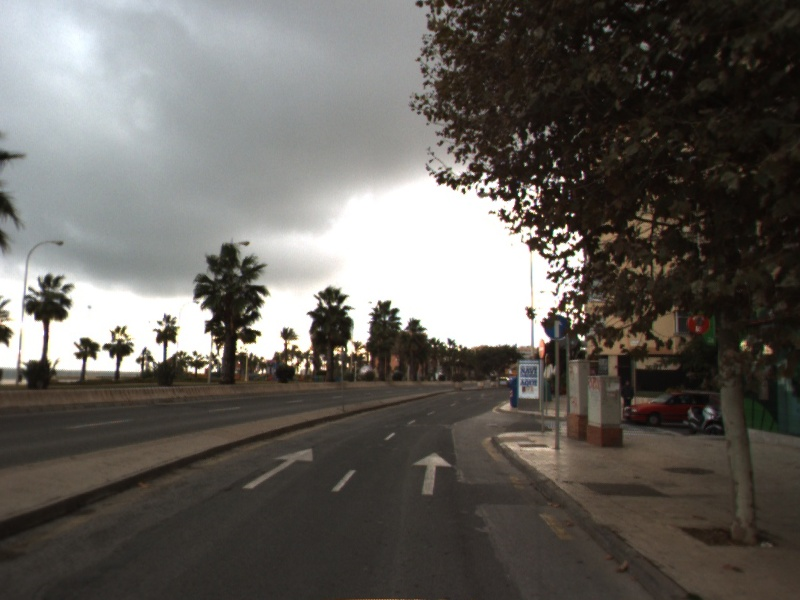STRAIGHT: (240, 446, 314, 490), (410, 450, 454, 496)
